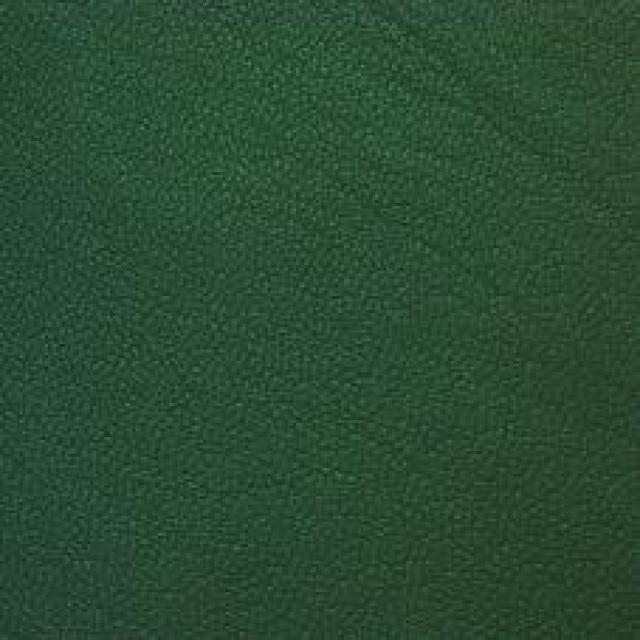Growth Marks: (380, 17, 541, 137)
